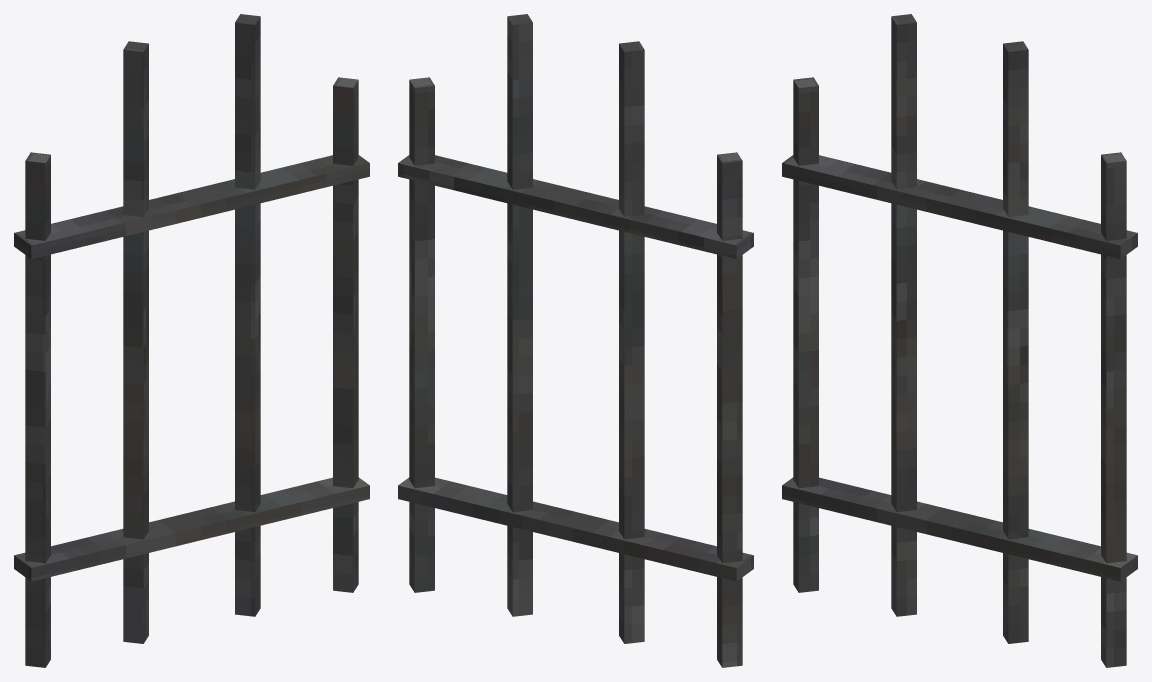
Rendered from iron_door.gltf.
3 renders of one model, left to right at view 1: azimuth 30°, elevation 25°; view 2: azimuth 150°, elevation 25°; view 3: azimuth 330°, elevation 25°, orthographic.
Visible parts, largest first — view 1: IronDoor; view 2: IronDoor; view 3: IronDoor.
Part boxes in pixels (x1=…): IronDoor: x1=14, y1=14, x2=369, y2=667; IronDoor: x1=398, y1=14, x2=753, y2=667; IronDoor: x1=782, y1=14, x2=1137, y2=667.
Bounding box in the file's own units: 1.22 × 2.04 × 0.1084.
Materials: 1 (1 with a texture image).
